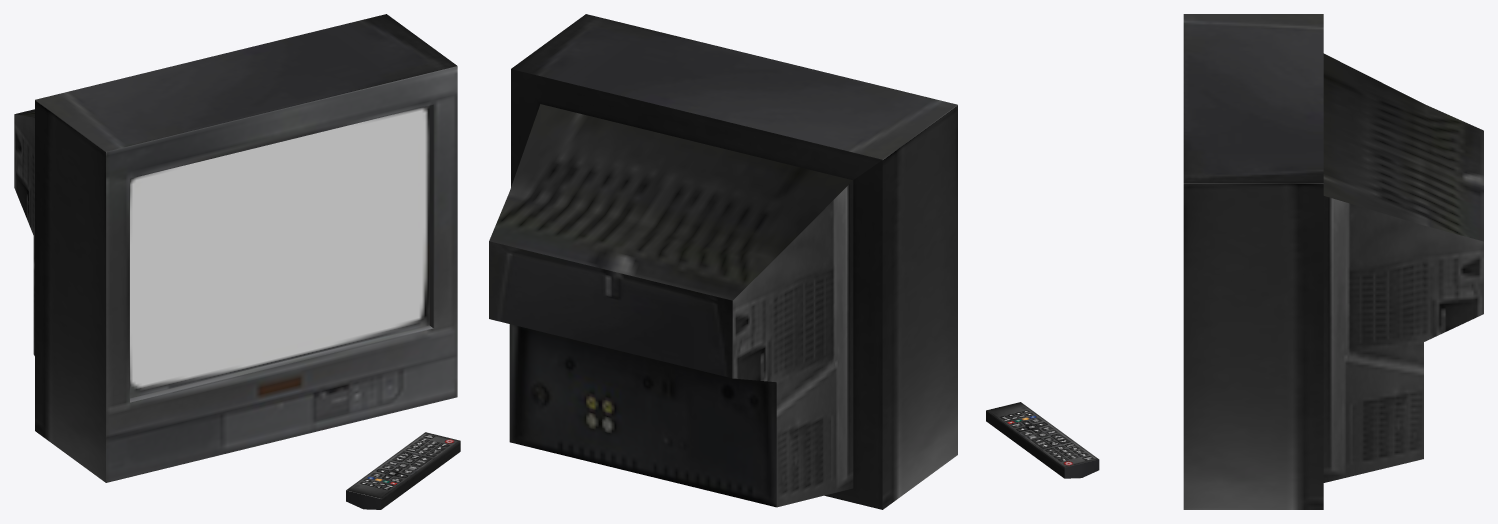
File: ttv.glb
3 views of the same model, side by side, from view 1: azimuth 30°, elevation 25°; view 2: azimuth 150°, elevation 25°; view 3: azimuth 270°, elevation 25° (orthographic). The views are drawn at different scales.
Visible parts, largest first — view 1: TVCRT, TVCRT.001, TVRemote; view 2: TVCRT; view 3: TVCRT, TVRemote.
Part boxes in pixels (bbox=[...]): TVCRT: bbox=[14, 14, 457, 482]; TVCRT.001: bbox=[130, 105, 429, 398]; TVRemote: bbox=[346, 432, 460, 509]; TVCRT: bbox=[489, 14, 957, 509]; TVCRT: bbox=[1183, 14, 1483, 509]; TVRemote: bbox=[986, 402, 1099, 478].
Size of the model in its own units: 0.6 by 0.54 by 0.7458.
1 material, 1 textured.
